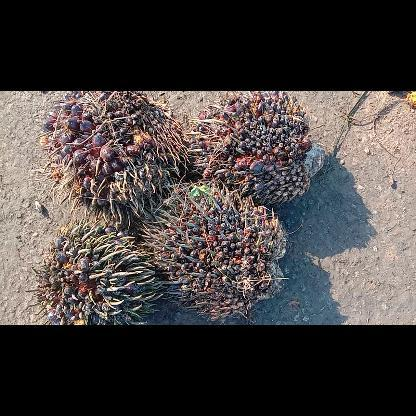TBS abnormal: (139, 174, 293, 324), (183, 90, 329, 206), (26, 214, 166, 324)
TBS masak: (39, 92, 193, 220)
